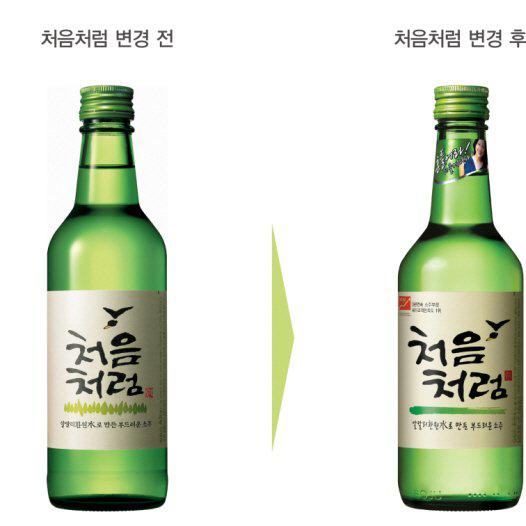soju: (391, 79, 525, 516), (42, 81, 175, 512)
